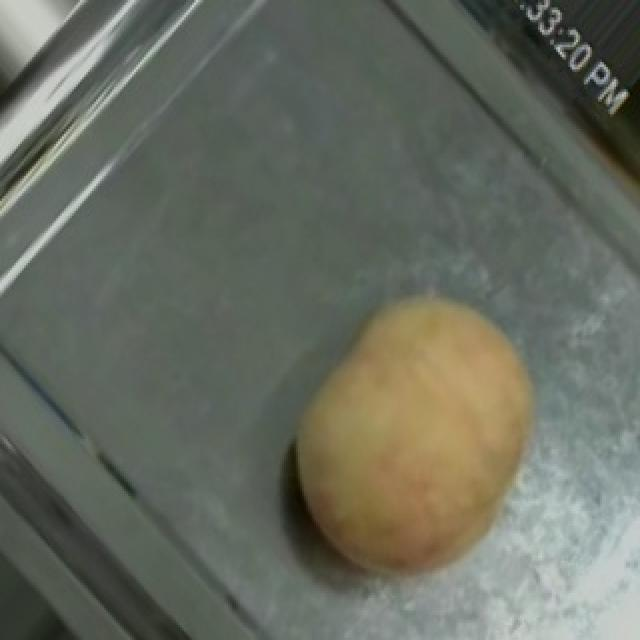Fruit: (248, 250, 574, 612)
